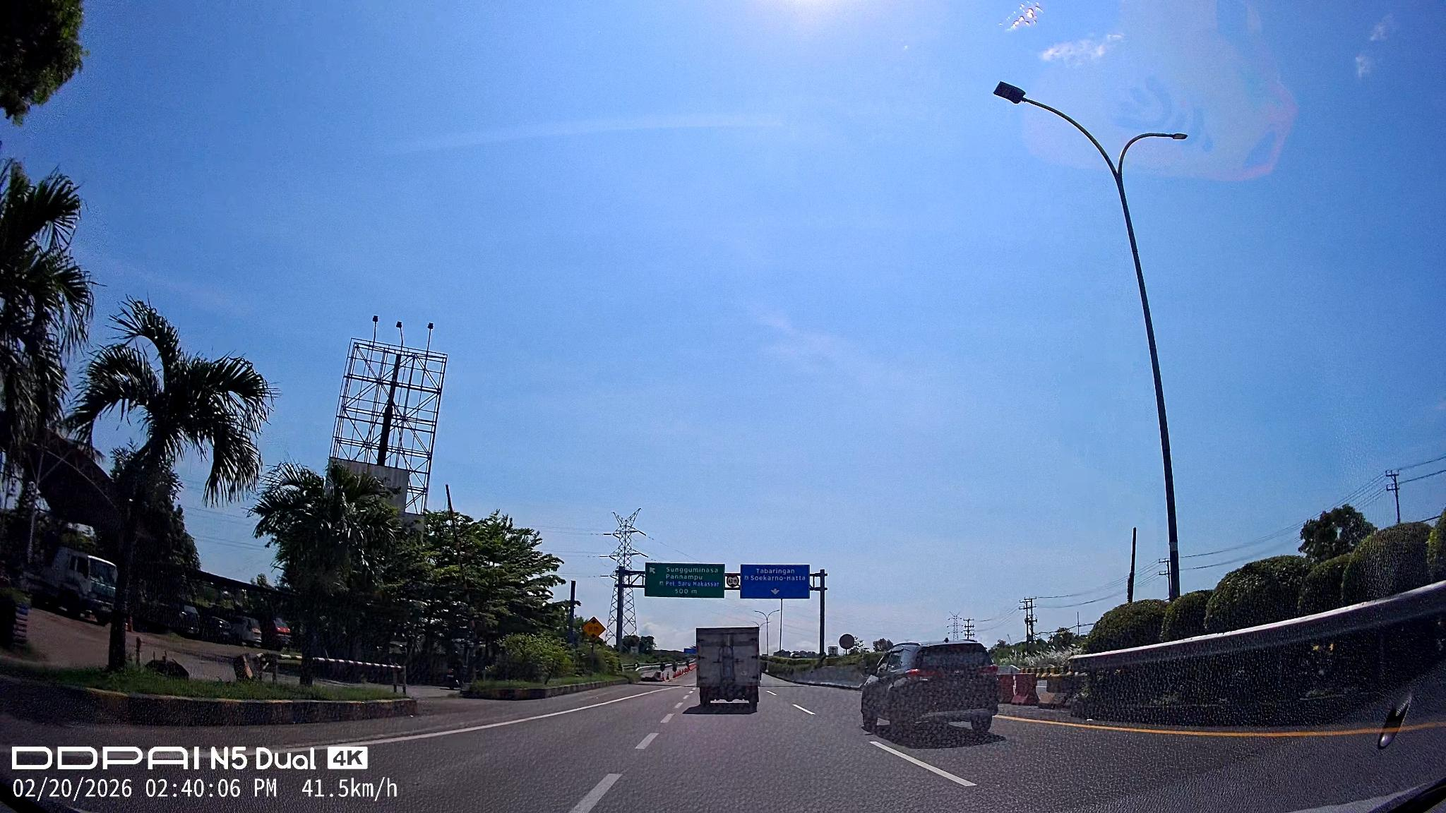rambu_teks: (644, 562, 725, 599), (740, 563, 810, 600)
